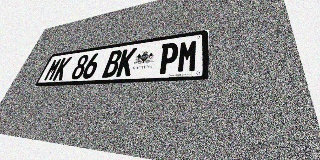6: (81, 52, 102, 79)
8: (70, 54, 90, 80)
B: (102, 50, 123, 78)
K: (115, 48, 137, 77), (52, 57, 72, 81)
M: (176, 39, 199, 73), (43, 58, 63, 81)
P: (157, 42, 179, 74)
